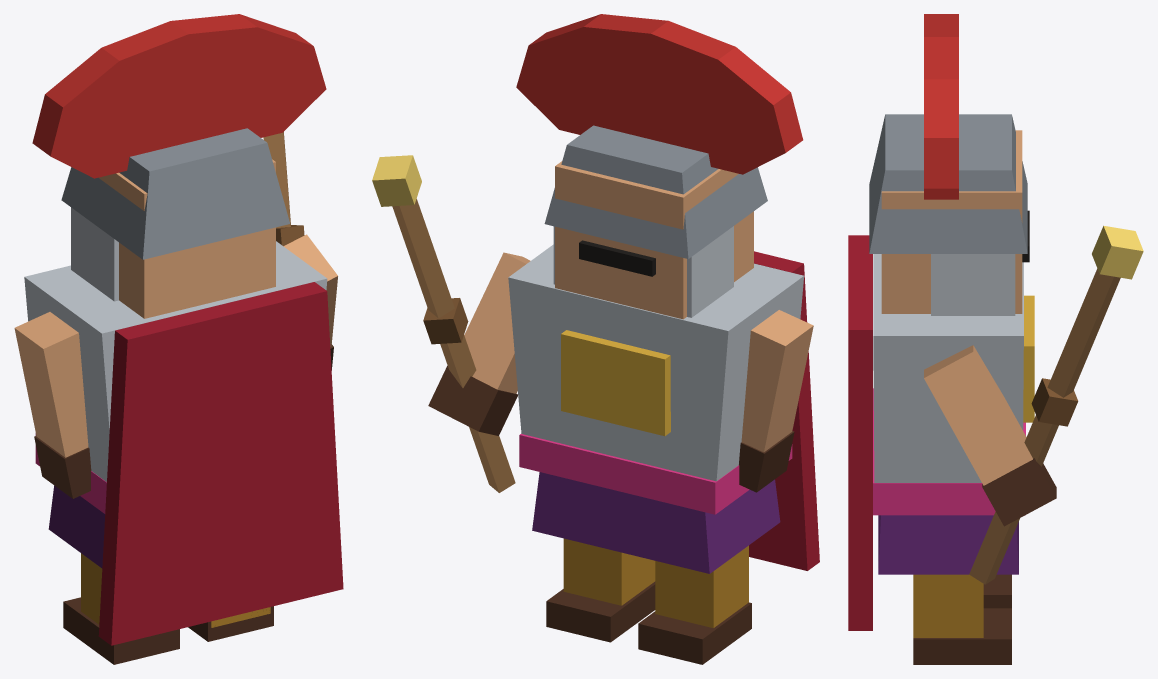
File: EN_Centurion.fbx
3 renders of one model, left to right at view 1: azimuth 30°, elevation 25°; view 2: azimuth 150°, elevation 25°; view 3: azimuth 270°, elevation 25°, orthographic. The views are drawn at different scales.
Parts seen in each view (by area): view 1: Cloak, Crest, Helm, Body, Head, ArmL, CheekL, Skirt, BootL, FistL, ArmR, LegL (+3 smaller); view 2: Body, Crest, Skirt, Helm, Head, Phalerae, Belt, Cloak, ArmL, Vitis, LegL, ArmR (+9 smaller); view 3: Body, Helm, Cloak, ArmR, Skirt, Crest, Head, Vitis, CheekR, LegR, Belt, BootR (+5 smaller).
Part boxes in pixels (<box>): Cloak: <box>98,282,343,645</box>; Crest: <box>32,14,326,178</box>; Helm: <box>61,128,290,259</box>; Body: <box>24,241,327,481</box>; Head: <box>99,159,275,318</box>; ArmL: <box>14,312,88,457</box>; CheekL: <box>71,207,118,301</box>; Skirt: <box>48,485,105,568</box>; BootL: <box>63,597,179,664</box>; FistL: <box>34,436,91,498</box>; ArmR: <box>283,234,337,346</box>; LegL: <box>81,553,102,624</box>; Body: <box>508,244,804,481</box>; Crest: <box>516,14,803,174</box>; Skirt: <box>532,472,780,573</box>; Helm: <box>544,125,767,258</box>; Head: <box>555,161,753,319</box>; Phalerae: <box>561,330,670,436</box>; Belt: <box>519,434,792,514</box>; Cloak: <box>749,251,819,570</box>; ArmL: <box>741,310,813,452</box>; Vitis: <box>392,199,515,492</box>; LegL: <box>655,545,748,627</box>; ArmR: <box>464,252,530,393</box>; Body: <box>873,254,1023,482</box>; Helm: <box>869,114,1027,253</box>; Cloak: <box>848,235,872,630</box>; ArmR: <box>924,345,1032,485</box>; Skirt: <box>878,515,1018,574</box>; Crest: <box>924,14,958,199</box>; Head: <box>881,130,1022,313</box>; Vitis: <box>969,268,1120,584</box>; CheekR: <box>931,254,1015,315</box>; LegR: <box>913,574,983,637</box>; Belt: <box>873,388,1025,515</box>; BootR: <box>913,608,1011,664</box>.
Size of the model in its own units: 1.1 by 0.8396 by 1.85.
